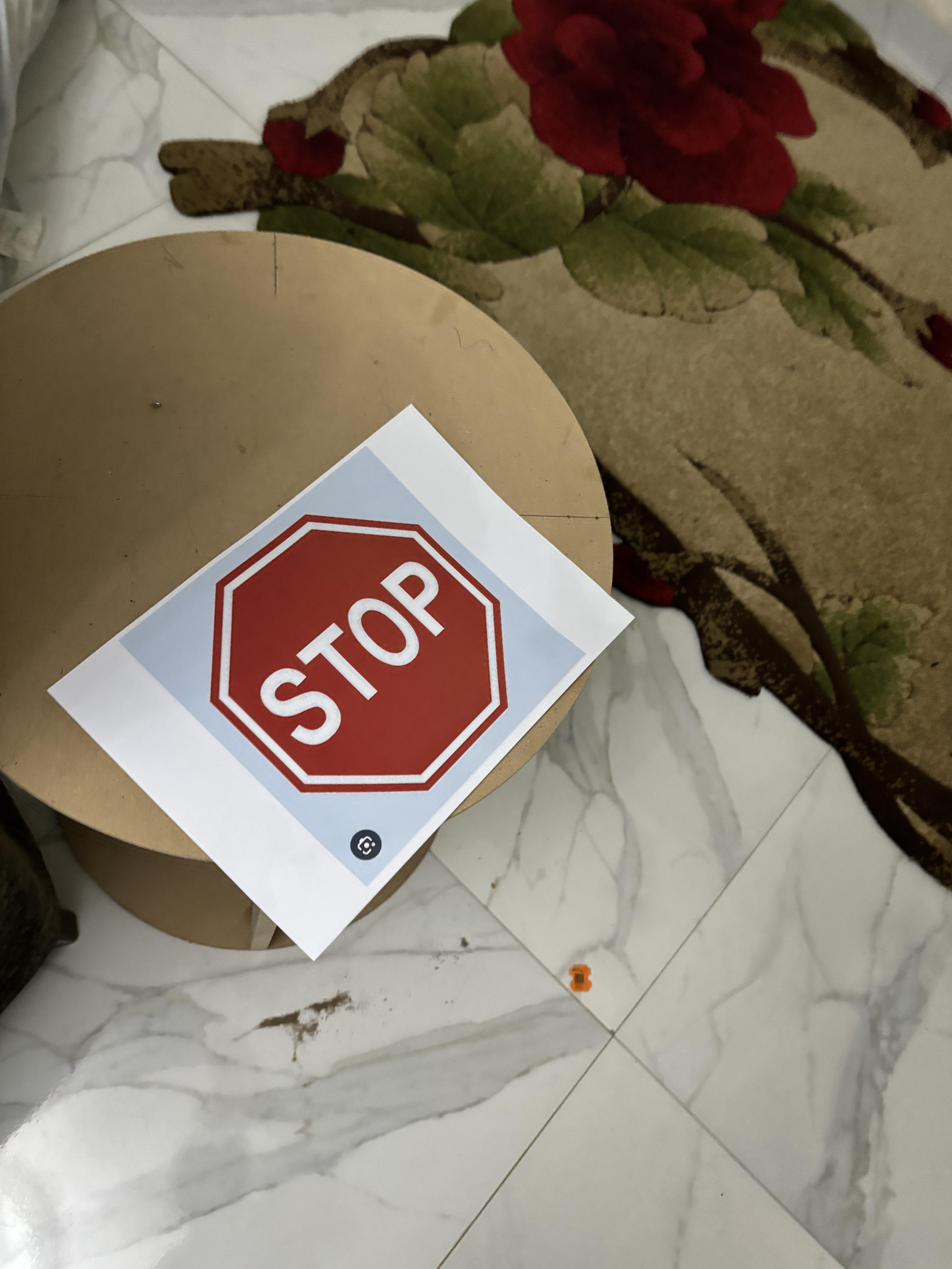Stop: (205, 507, 518, 803)
